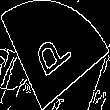P_SW: (32, 26, 78, 84)
